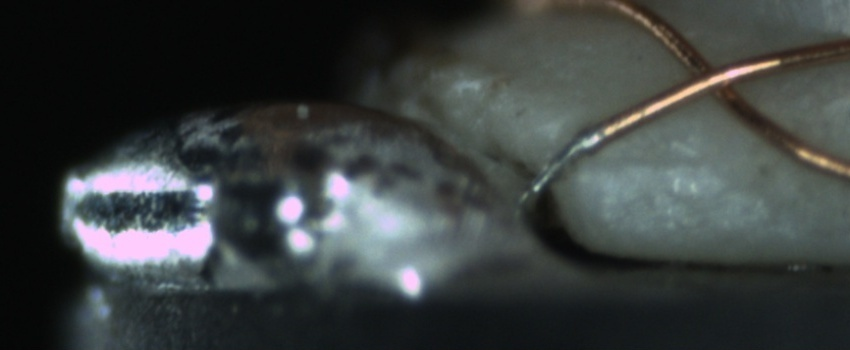CL: (665, 42, 759, 112)
DL: (584, 132, 710, 187)
TS: (527, 127, 606, 199)
